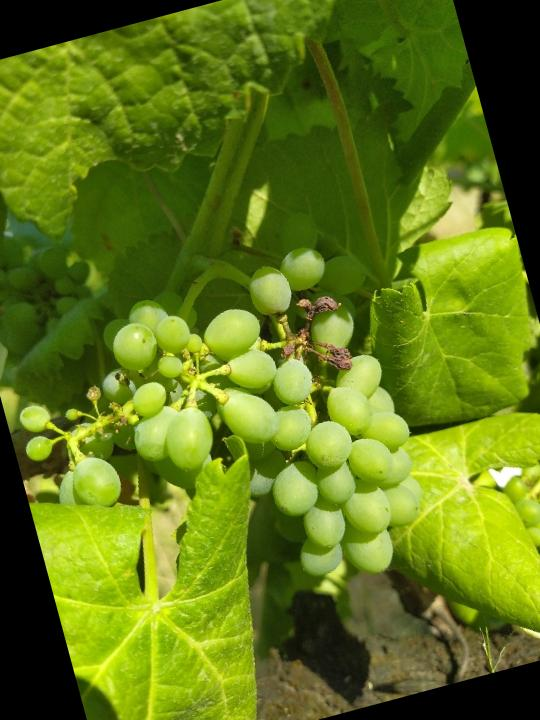grape: (0, 196, 453, 656), (493, 440, 540, 554)
